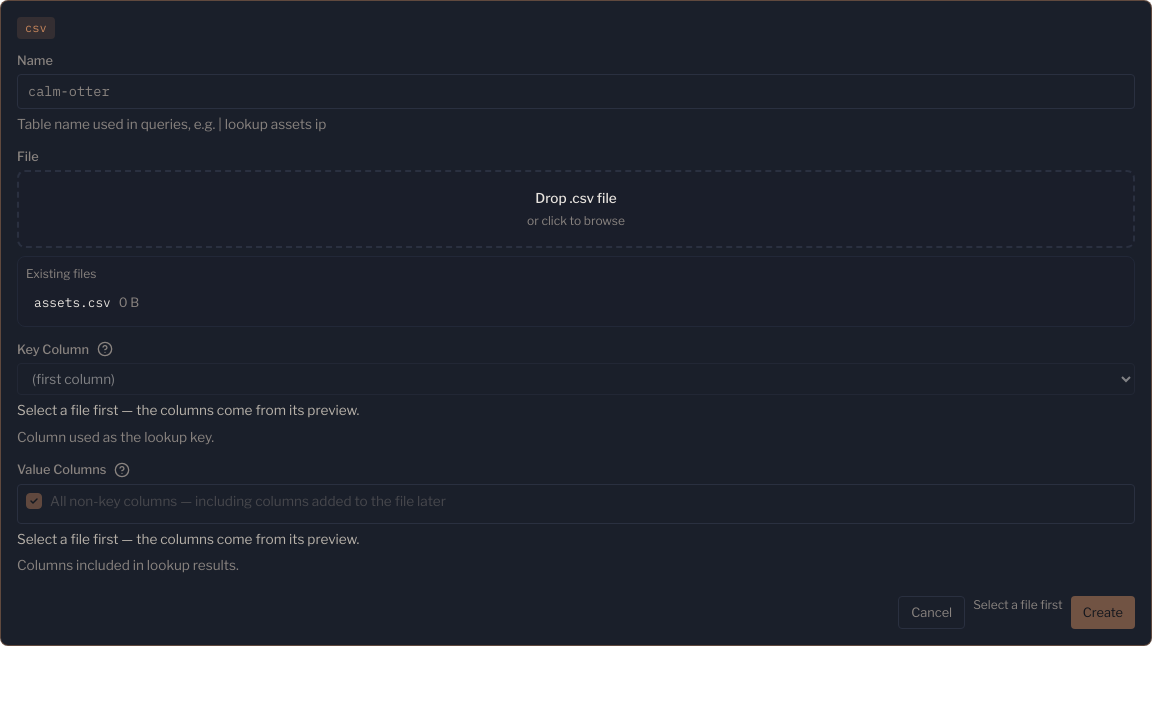
Test: CsvAddForm create gate › Create is disabled with 'Select a file first' until a file is picked
Expected: the button "Create" is disabled, [1071,596,1135,629]
Expected: the text "Select a file first" is shown, [973,597,1063,612]
Click the button "assets.csv 0 B".
click(72, 303)  # box [26,287,1126,318]
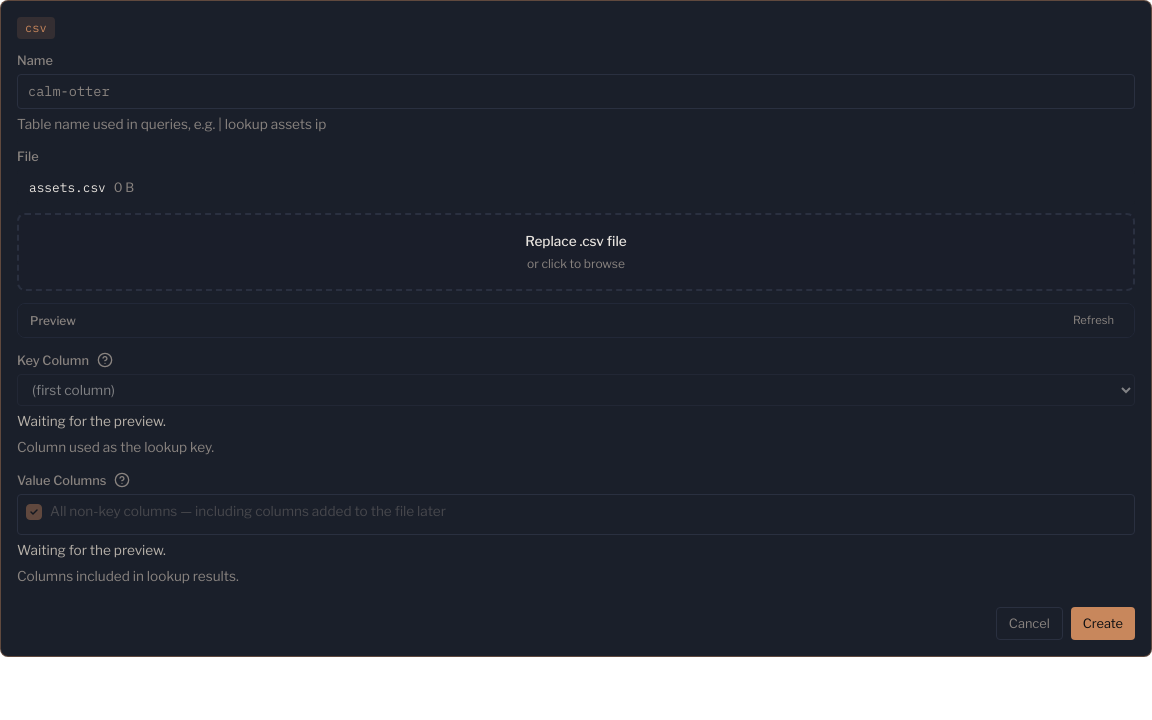
Expected: the button "Create" is enabled, [1071,607,1135,640]
Expected: the text "Select a file first" is gone
